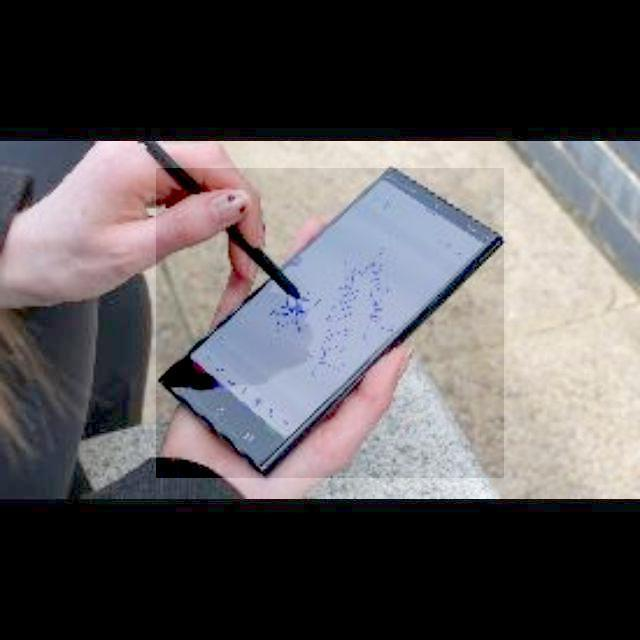mobile: (155, 168, 504, 478)
